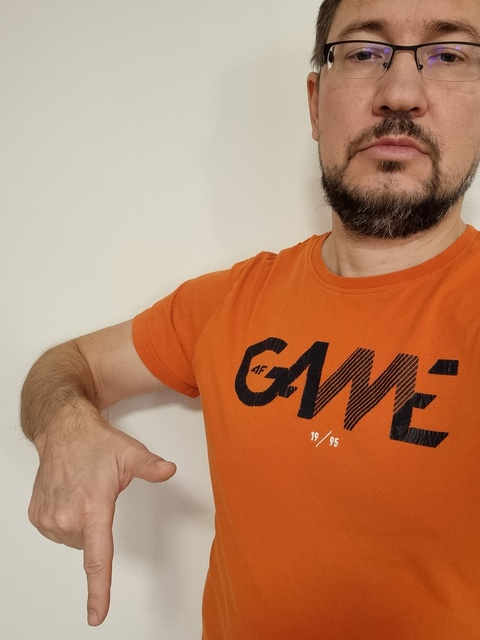GestDown: (28, 438, 176, 627)
